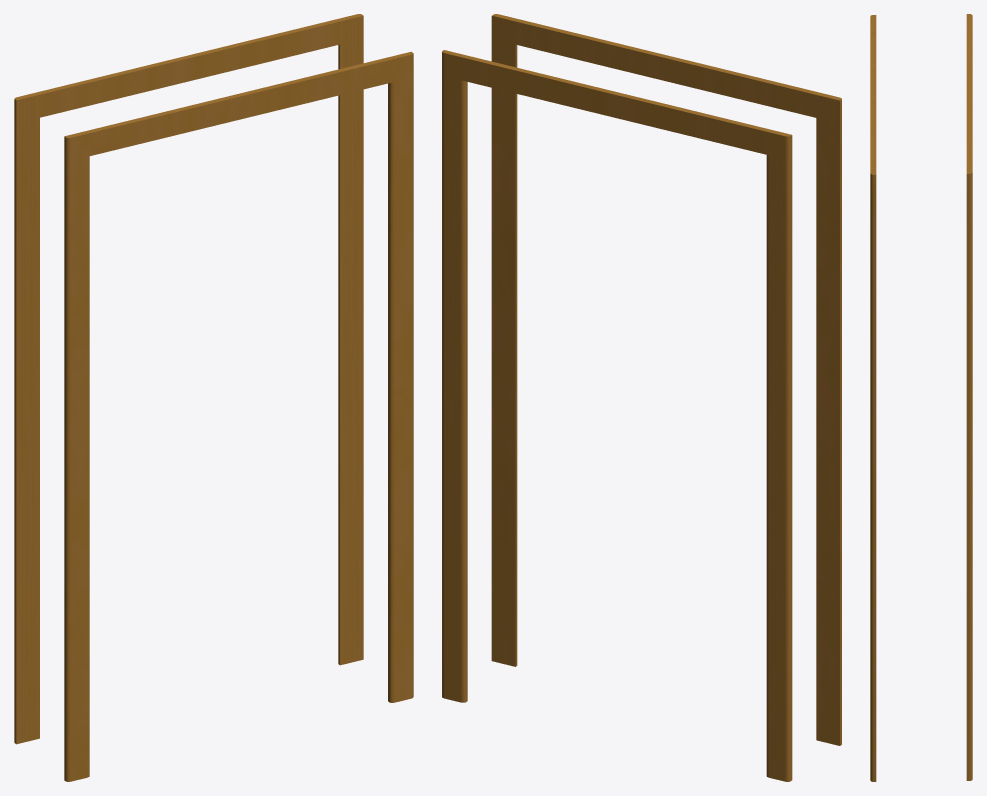
The model's file is type_1.glb.
The picture shows the model from 3 angles, left to right: view 1: azimuth 30°, elevation 25°; view 2: azimuth 150°, elevation 25°; view 3: azimuth 270°, elevation 25°; orthographic projection. The views are drawn at different scales.
Visible parts, largest first — view 1: pCube35, pCube36; view 2: pCube36, pCube35; view 3: pCube35, pCube36.
Boxes of the visible parts, left/top/right/bottom form: pCube35: left=64, top=51, right=413, bottom=781; pCube36: left=14, top=14, right=363, bottom=744; pCube36: left=442, top=50, right=792, bottom=781; pCube35: left=491, top=14, right=841, bottom=745; pCube35: left=870, top=15, right=876, bottom=781; pCube36: left=966, top=14, right=972, bottom=780.
Bounding box in the file's own units: 2.17 × 3.85 × 0.5868.
1 material, 1 textured.
